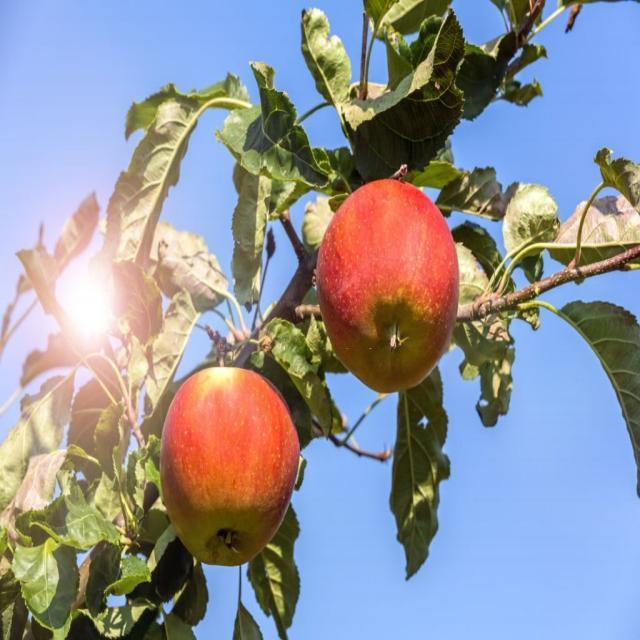Red Apple: (316, 183, 456, 389), (158, 358, 304, 547)
